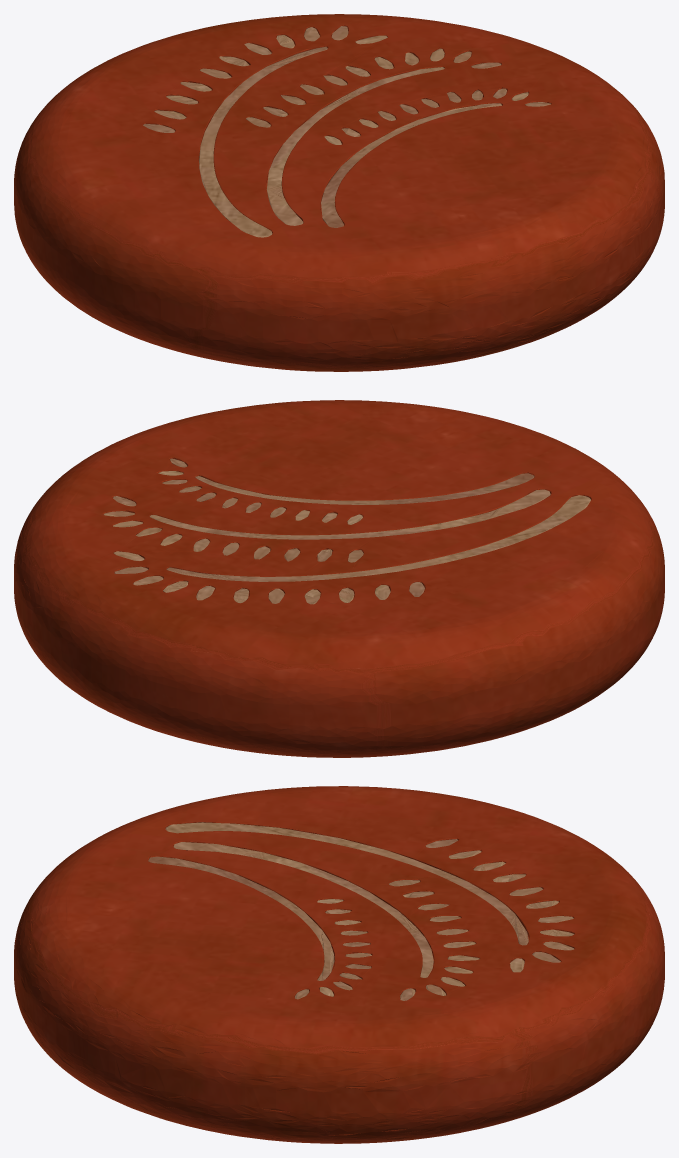
The model's file is Tile_Knot.glb.
3 renders of one model, top to bottom at view 1: azimuth 30°, elevation 25°; view 2: azimuth 150°, elevation 25°; view 3: azimuth 270°, elevation 25°, orthographic.
Visible parts, largest first — view 1: Tile, Face; view 2: Tile, Face; view 3: Tile, Face.
Boxes of the visible parts, x1=… form: Tile: x1=14, y1=14, x2=664, y2=371; Face: x1=143, y1=26, x2=550, y2=237; Tile: x1=14, y1=400, x2=664, y2=757; Face: x1=103, y1=458, x2=590, y2=604; Tile: x1=14, y1=786, x2=664, y2=1143; Face: x1=148, y1=822, x2=573, y2=1000.
Size of the model in its own units: 2 by 0.4 by 2.
Materials: 2 (2 with a texture image).
